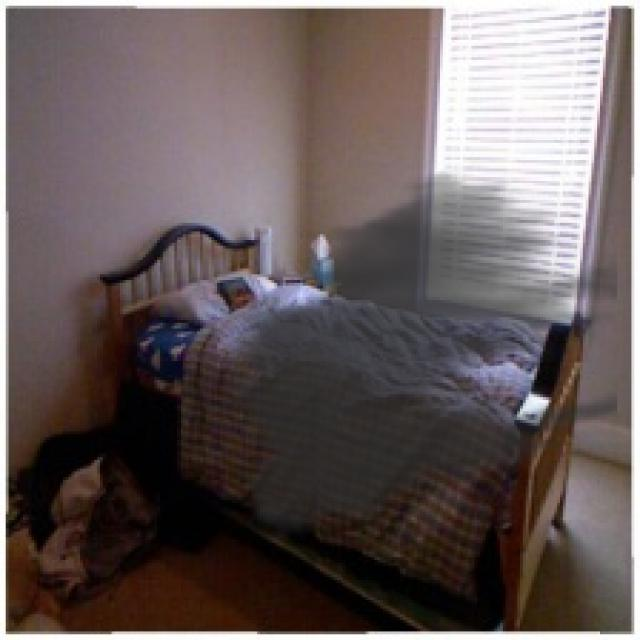smoke: (212, 160, 617, 554)
